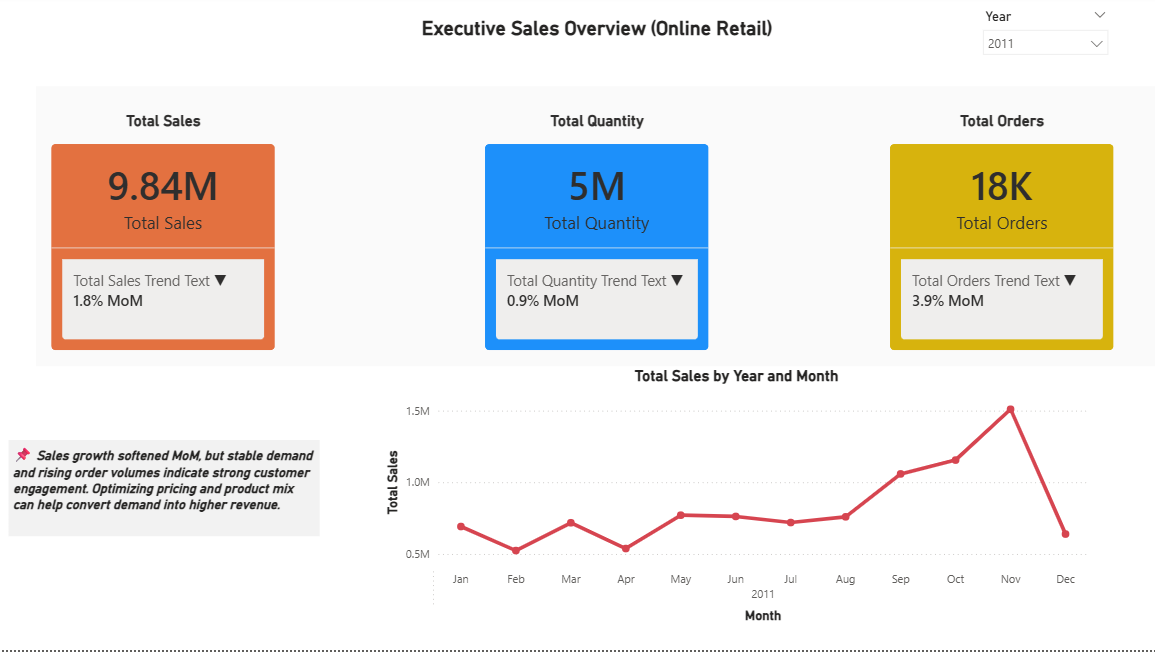

Layout of this report page (visuals, bound fields, positions):
{"tool":"powerbi","page":{"name":"Page 1","canvas":[1280,720],"ordinal":0},"visuals":[{"type":"cardVisual","title":"Total Sales","fields":{"Data":["Online Retail.Total Sales"]},"box":[43.9,127.6,279.9,279.9],"z":0},{"type":"cardVisual","title":"Total Quantity","fields":{"Data":["Online Retail.Total Quantity"]},"box":[520.1,127.6,279.9,279.9],"z":1000},{"type":"cardVisual","title":"Total Orders","fields":{"Data":["Online Retail.Total Orders"]},"box":[964.7,127.6,279.9,279.9],"z":2000},{"type":"lineChart","fields":{"Y":["Online Retail.Total Sales"],"Category":["Calender.Year","Calender.Month"]},"box":[422.6,407.5,780.8,286.8],"z":3000},{"type":"textbox","box":[520.1,17.8,399.3,63.1],"z":4000},{"type":"slicer","fields":{"Values":["Calender.Year"]},"box":[1073.1,9.6,157.8,81],"z":5000},{"type":"shape","box":[43.9,100.2,1236.4,307.4],"z":6000},{"type":"textbox","box":[13.7,488.5,341.7,105.7],"z":7000}]}

Visuals, with their boxes in screenshot pixels (x1, y1, x2, y2), scaled from the page's 1280x720 canvas onto the 1155x654 screenshot:
"Total Sales" cardVisual: (40,116,292,370)
"Total Quantity" cardVisual: (469,116,722,370)
"Total Orders" cardVisual: (870,116,1123,370)
lineChart - Online Retail.Total Sales x Calender.Year: (381,370,1086,631)
textbox: (469,16,830,73)
slicer - Calender.Year: (968,9,1111,82)
shape: (40,91,1154,370)
textbox: (12,444,321,540)
